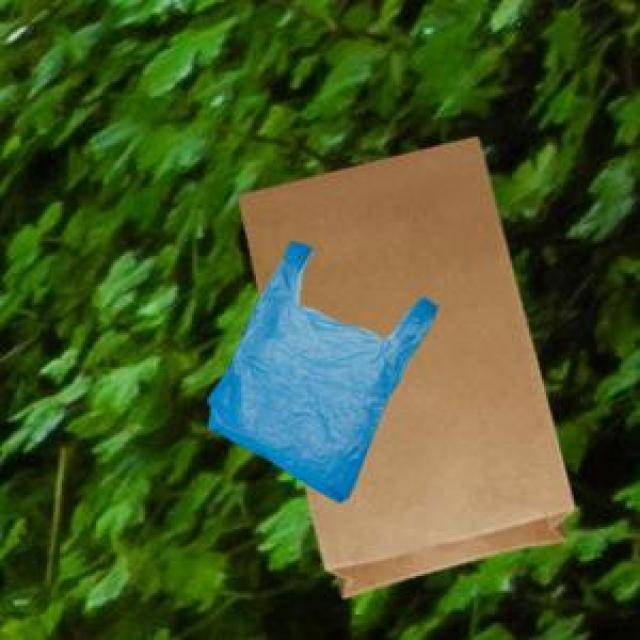paper: (235, 132, 570, 593)
